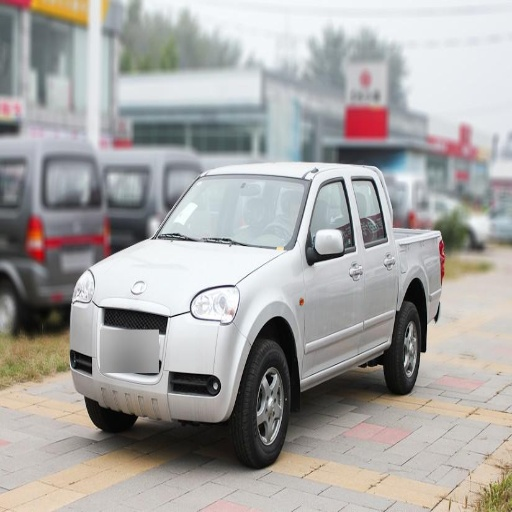back_left_door: (348, 176, 395, 348)
front_bumper: (75, 303, 252, 418)
front_glass: (164, 176, 309, 248)
front_left_door: (305, 175, 362, 375)
tailgate: (78, 245, 165, 310)
trunk: (398, 232, 446, 316)
